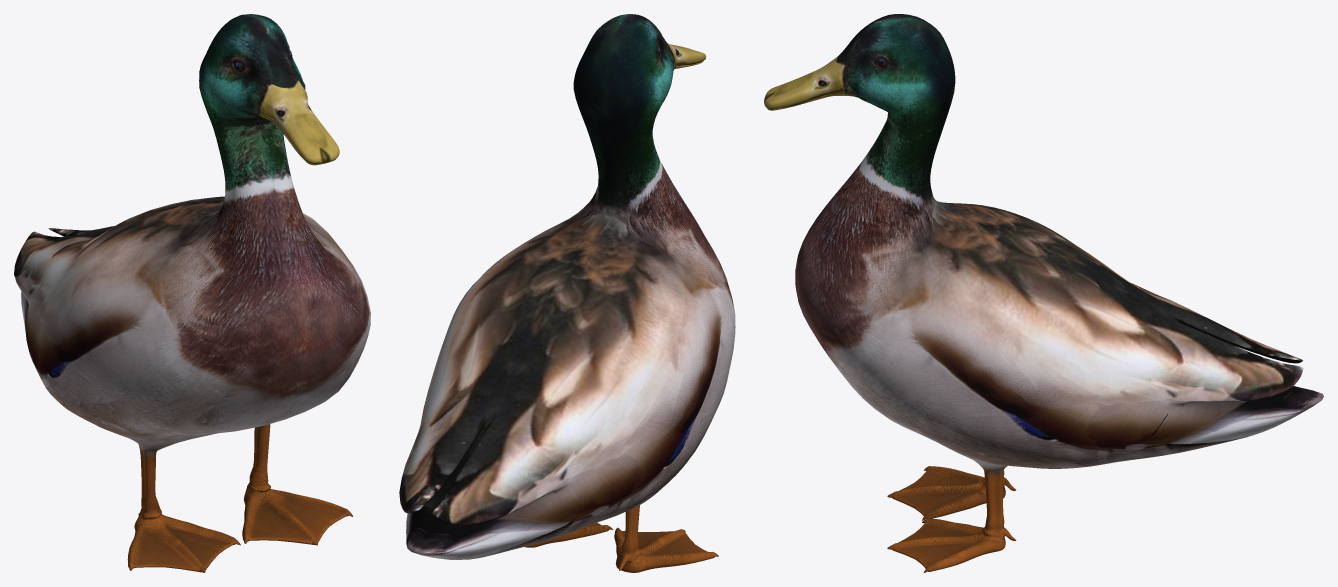
Rendered from Duck.glb.
The picture shows the model from 3 angles, left to right: view 1: azimuth 30°, elevation 25°; view 2: azimuth 150°, elevation 25°; view 3: azimuth 270°, elevation 25°; orthographic projection. The views are drawn at different scales.
Visible parts, largest first — view 1: Duck; view 2: Duck; view 3: Duck.
Part boxes in pixels (box(x1,y1,x2,y2)): Duck: box(14, 14, 370, 572); Duck: box(399, 14, 735, 572); Duck: box(764, 14, 1323, 572).
Size of the model in its own units: 28.45 by 56.47 by 56.53.
1 material, 1 textured.
